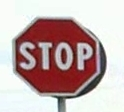stop: (13, 16, 102, 96)
